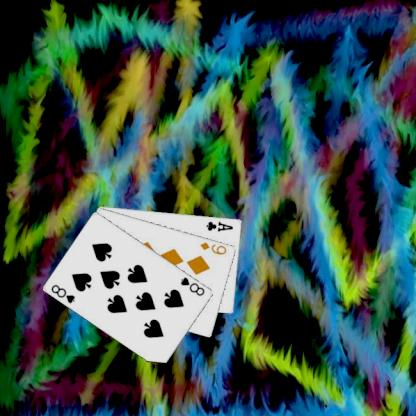8S: (178, 274, 206, 298), (48, 282, 76, 304)
9D: (198, 239, 228, 256)
AC: (204, 218, 234, 233)
